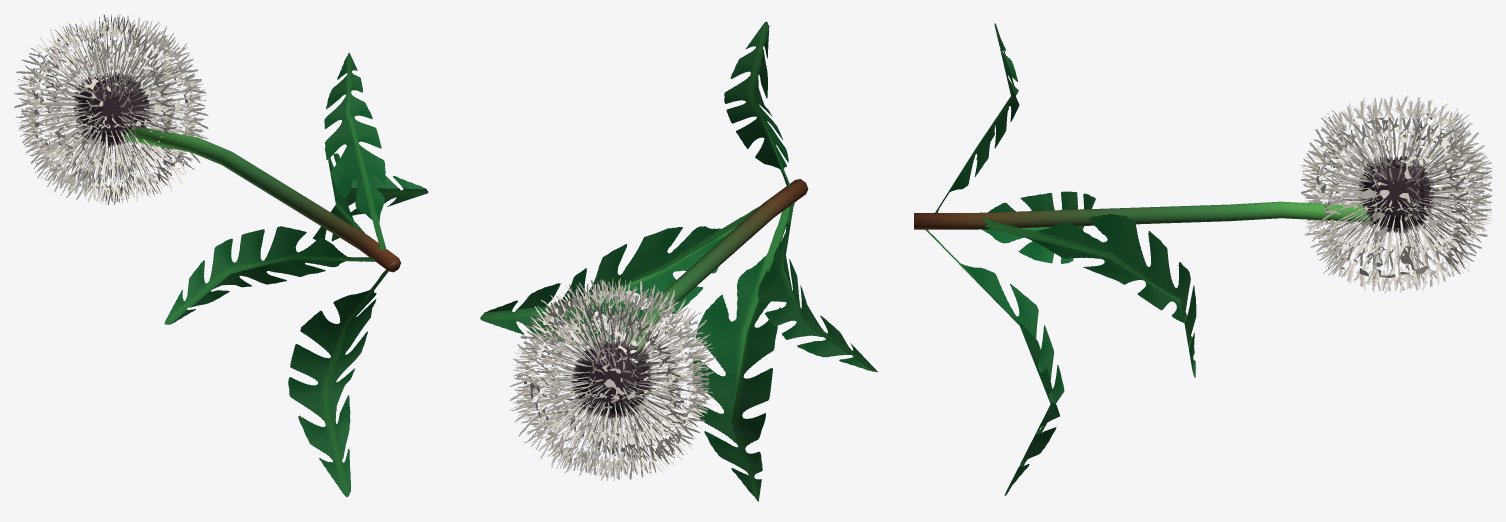
Rendered from SM_Dandelion_Puff.fbx.
3 views of the same model, side by side, from view 1: azimuth 30°, elevation 25°; view 2: azimuth 150°, elevation 25°; view 3: azimuth 270°, elevation 25° (orthographic). The views are drawn at different scales.
Visible parts, largest first — view 1: Dandelion_Puff; view 2: Dandelion_Puff; view 3: Dandelion_Puff.
Boxes of the visible parts, x1,y1,x2,y2 form: Dandelion_Puff: (14,14,428,497); Dandelion_Puff: (480,21,877,501); Dandelion_Puff: (914,23,1491,495).
Bounding box in the file's own units: 135 × 178 × 191.
